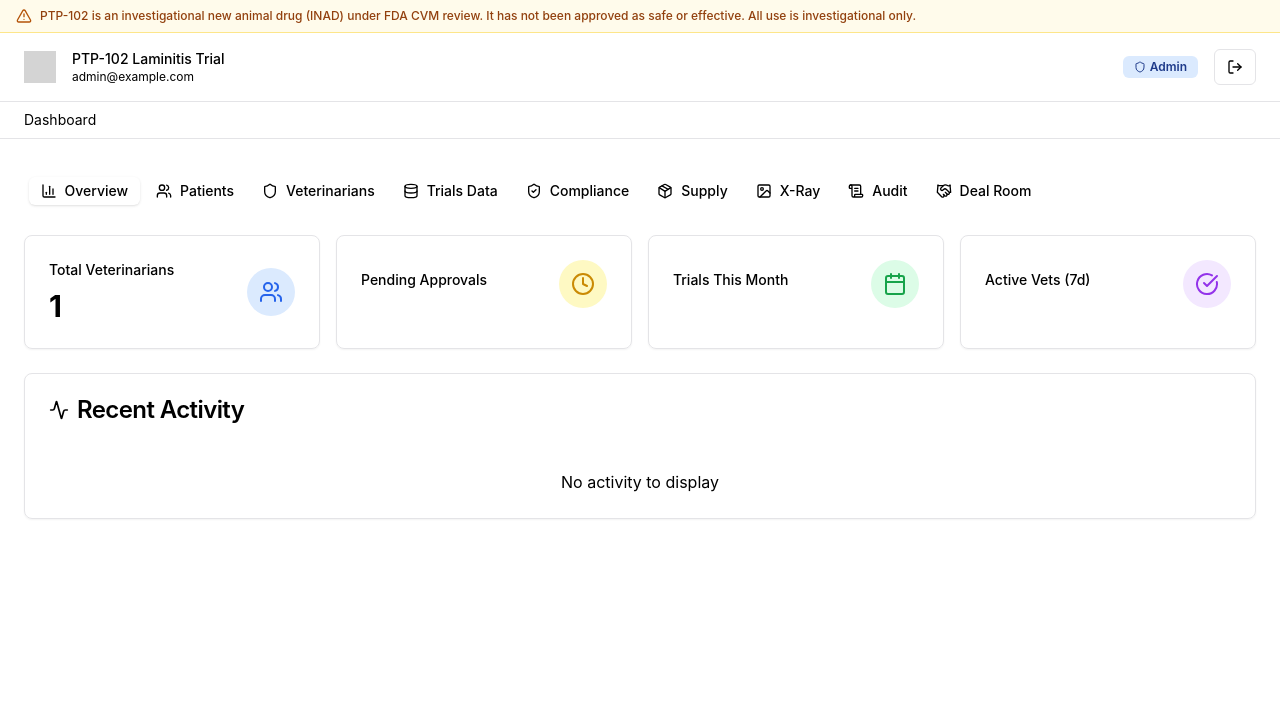
Test case: Admin navigation and role preservation › does not crash when clicking the Audit tab and shows the audit viewer
Expected: the text "Admin" is shown, [1123,56,1198,78]
What coordinates should you click on to do the following:
click the tab "Audit"
I would click on:
 (878, 191)
Its box is [836,177,920,205].
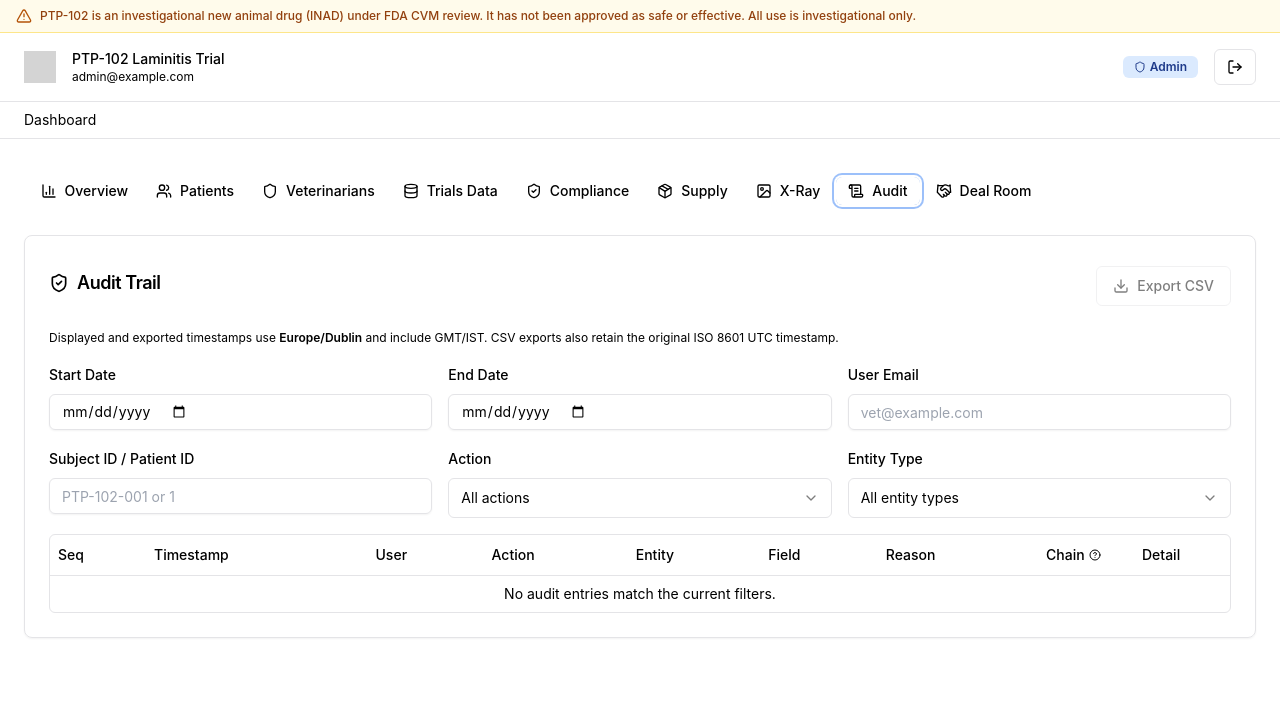
Now the heading "Audit Trail" is shown, box [49,269,161,297]
